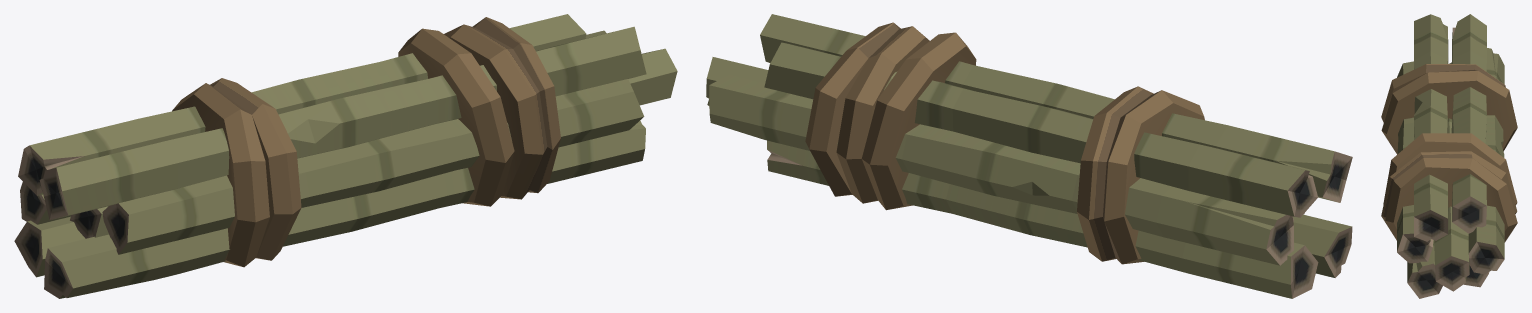
File: samurai_SM_Prop_Bamboo_Pile_01.gltf
3 views of the same model, side by side, from view 1: azimuth 30°, elevation 25°; view 2: azimuth 150°, elevation 25°; view 3: azimuth 270°, elevation 25° (orthographic). The views are drawn at different scales.
Parts seen in each view (by area): view 1: SM_Prop_Bamboo_Pile_01; view 2: SM_Prop_Bamboo_Pile_01; view 3: SM_Prop_Bamboo_Pile_01.
Boxes of the visible parts, x1=… form: SM_Prop_Bamboo_Pile_01: x1=14, y1=14, x2=677, y2=298; SM_Prop_Bamboo_Pile_01: x1=706, y1=14, x2=1352, y2=298; SM_Prop_Bamboo_Pile_01: x1=1381, y1=14, x2=1517, y2=298.
Bounding box in the file's own units: 1.51 × 0.3864 × 0.4088.
1 material, 1 textured.
